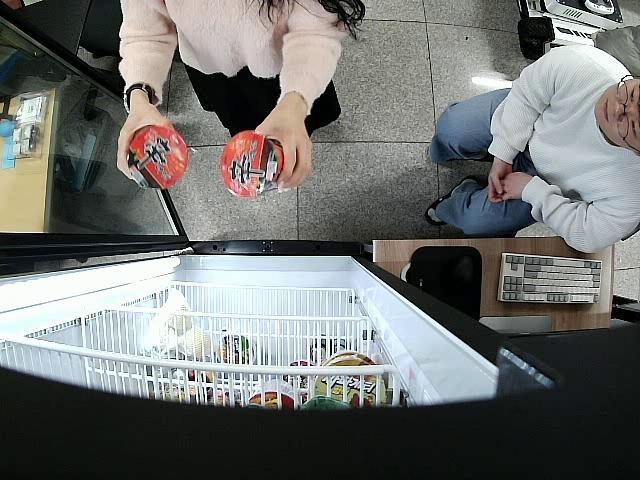02_shinRamen_S: (218, 132, 286, 198), (126, 125, 189, 190)
